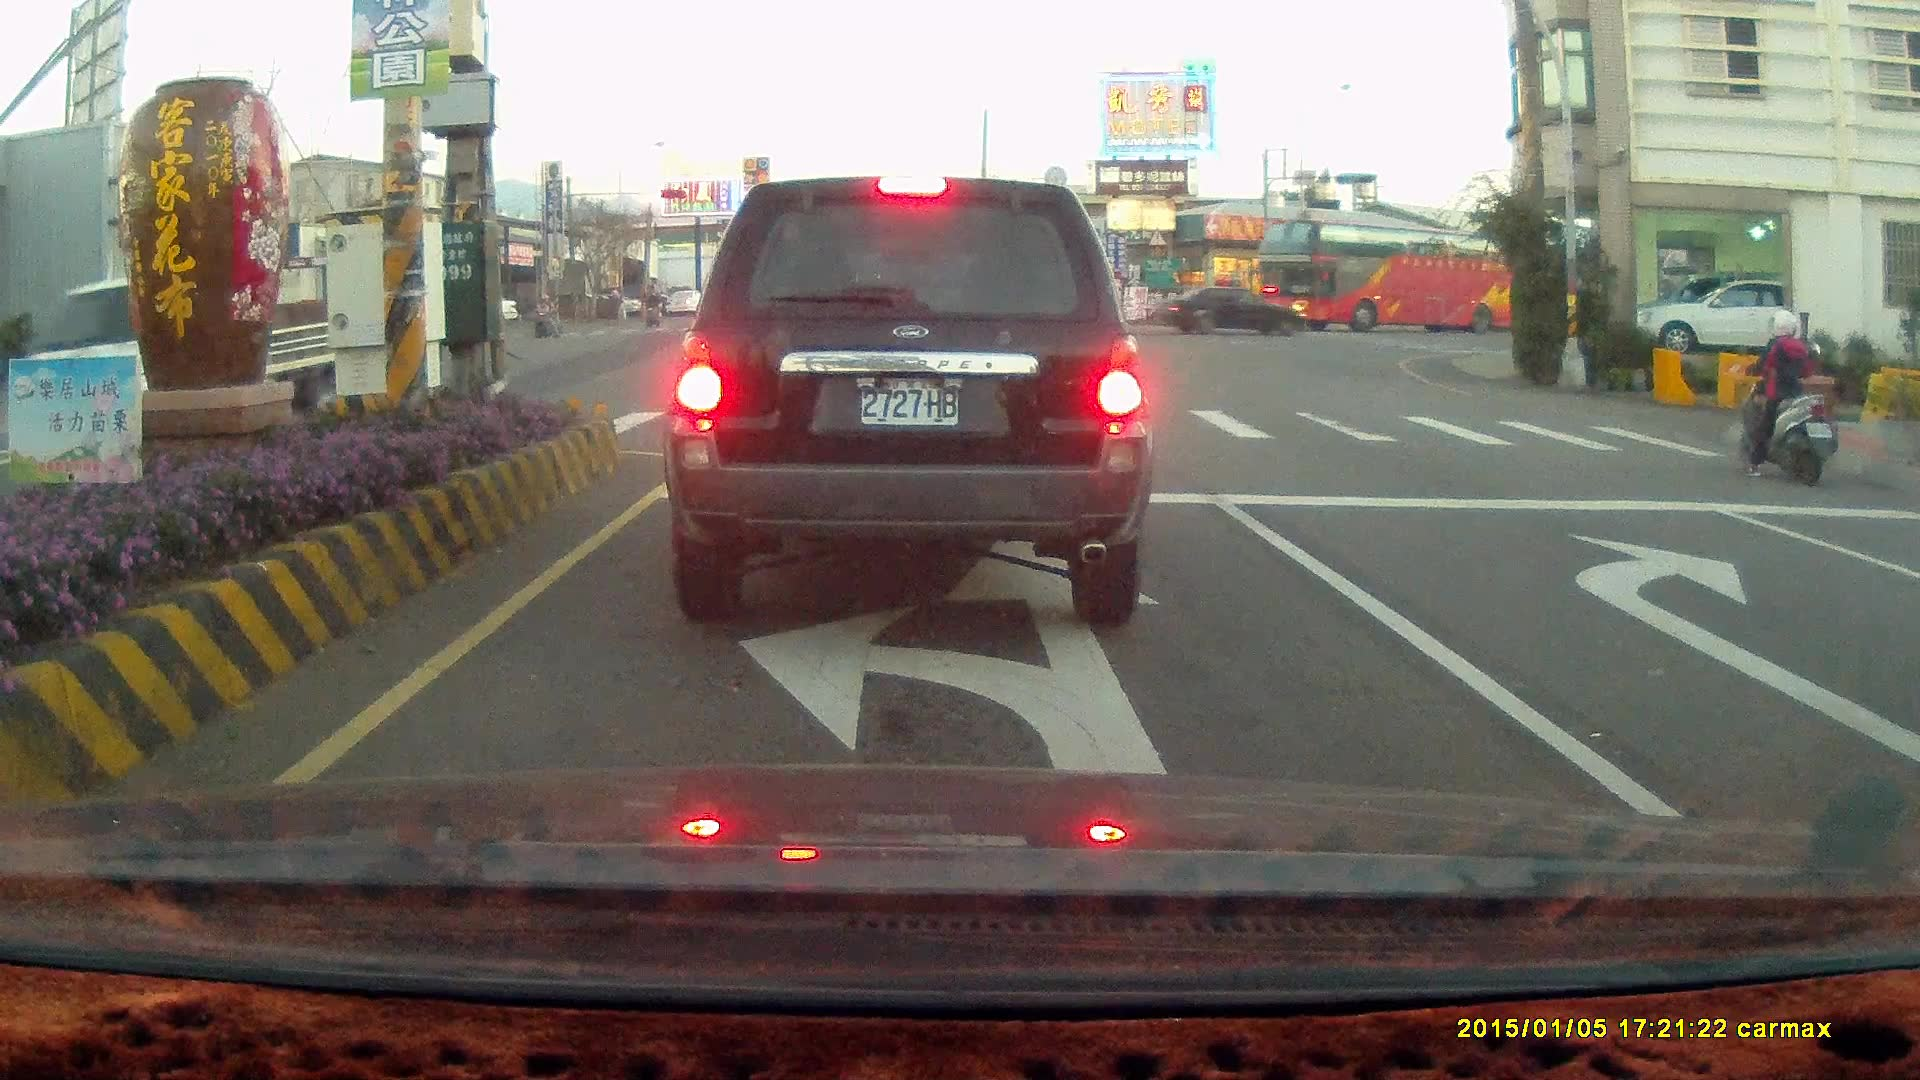rider: (1727, 307, 1836, 484), (532, 292, 561, 338), (641, 290, 662, 327)
vehicle: (659, 173, 1155, 630), (1241, 221, 1559, 334), (1622, 275, 1831, 354), (1642, 275, 1784, 356), (1154, 283, 1310, 340), (1896, 493, 1920, 836), (1883, 528, 1920, 690)
